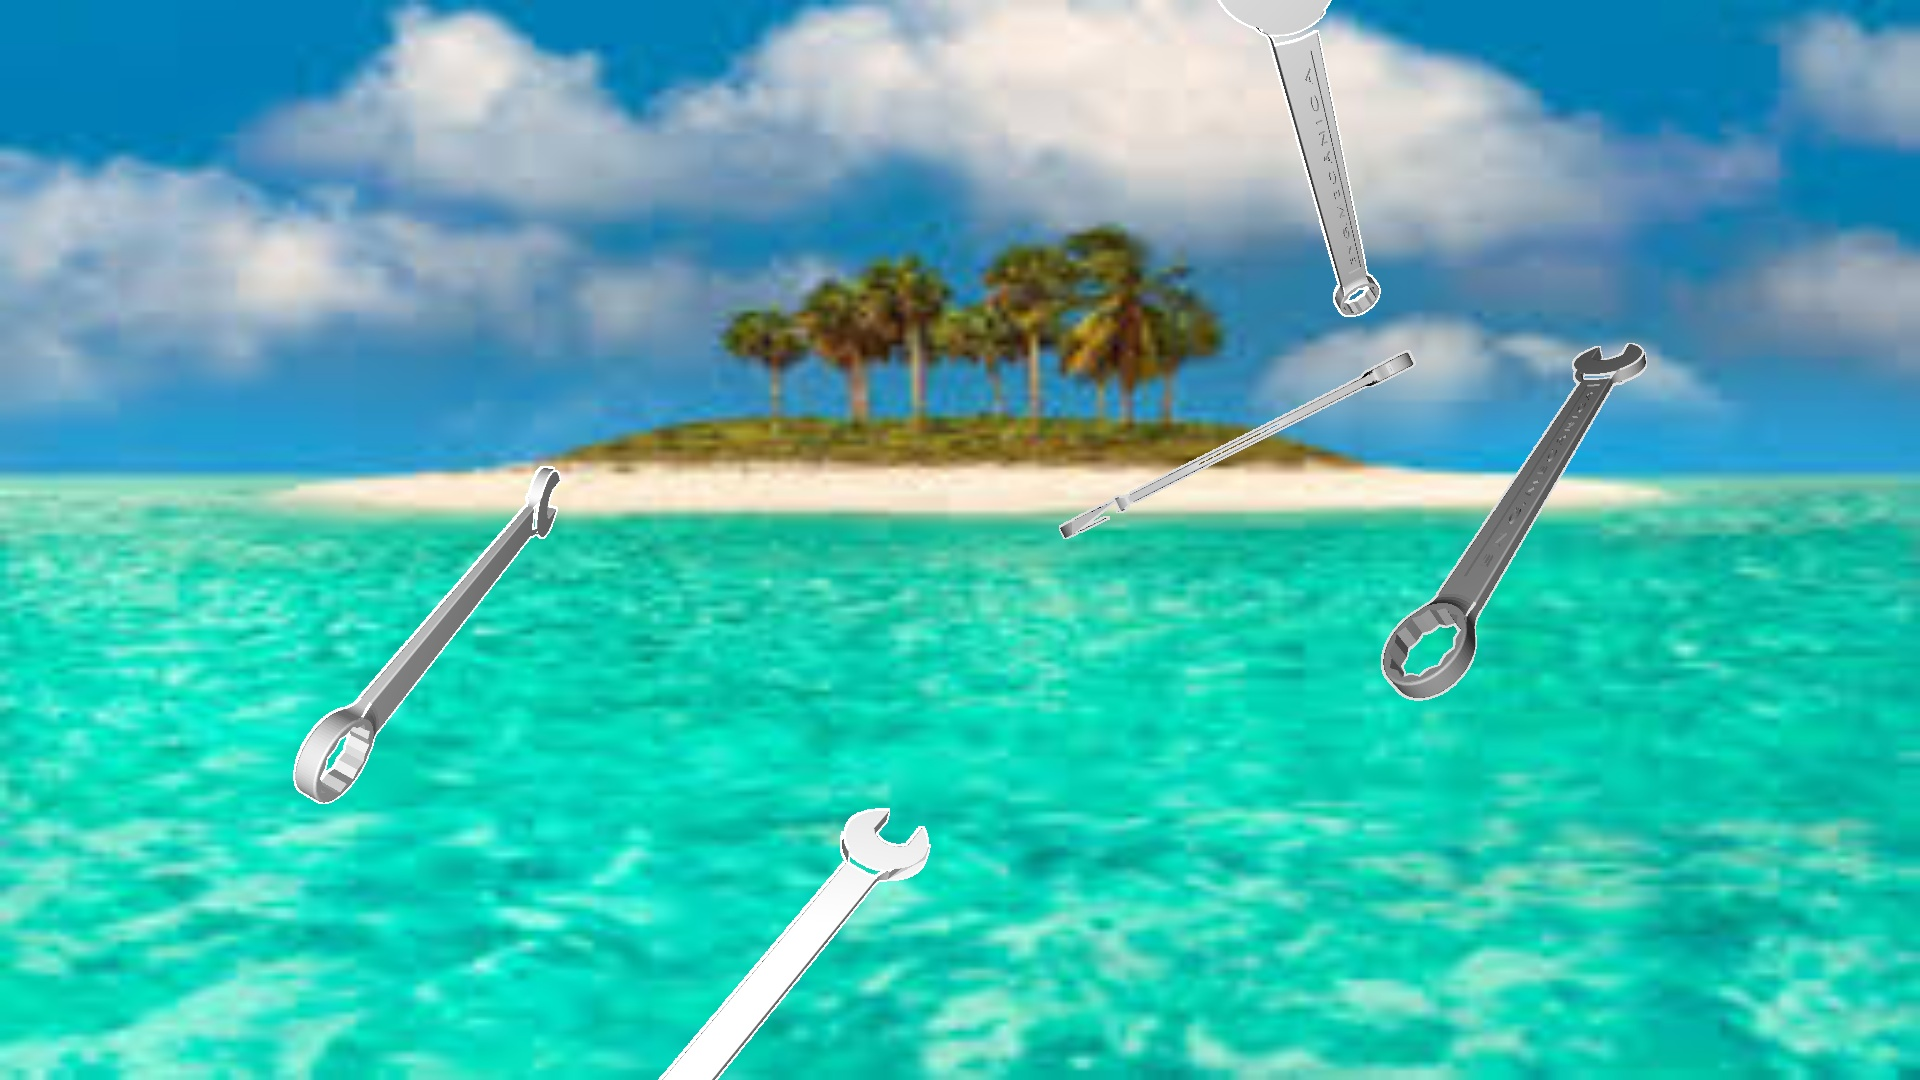Mixed Key: (1381, 343, 1646, 700), (293, 465, 560, 803), (658, 808, 930, 1079), (1059, 349, 1415, 538), (1217, 0, 1379, 316)
